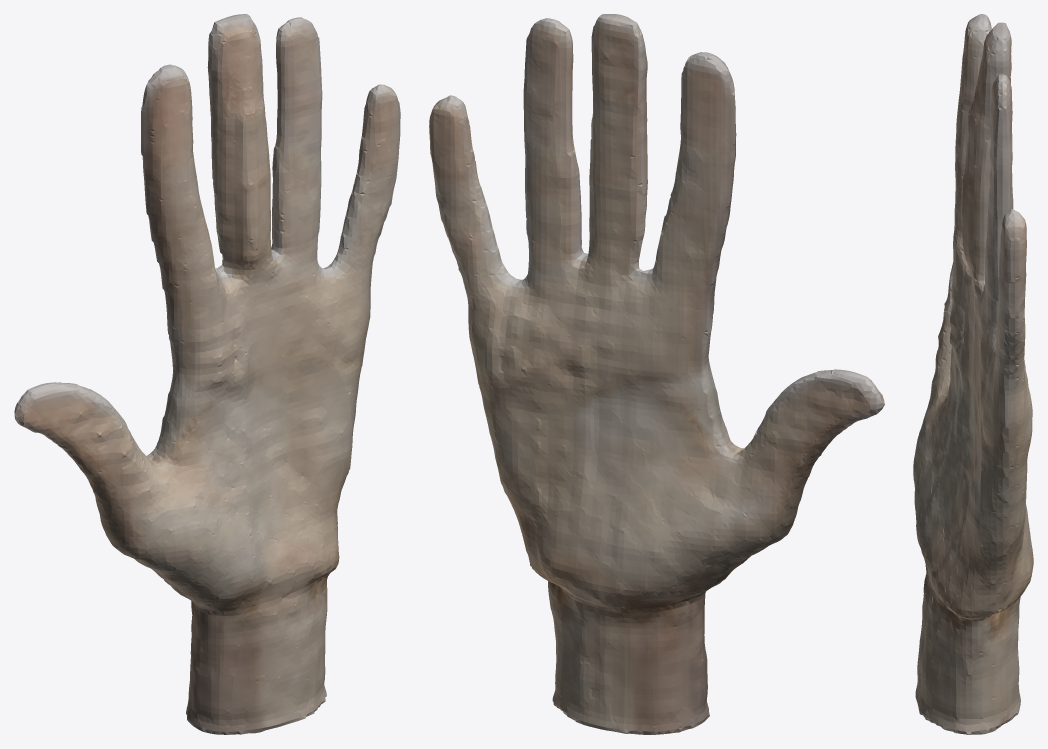
Rendered from ASL5.glb.
3 views of the same model, side by side, from view 1: azimuth 30°, elevation 25°; view 2: azimuth 150°, elevation 25°; view 3: azimuth 270°, elevation 25° (orthographic). The views are drawn at different scales.
Visible parts, largest first — view 1: world; view 2: world; view 3: world.
Boxes of the visible parts, x1,y1,x2,y2 form: world: [14, 14, 400, 734]; world: [429, 14, 884, 734]; world: [913, 14, 1033, 734].
Size of the model in its own units: 1.25 by 1.99 by 0.3214.
